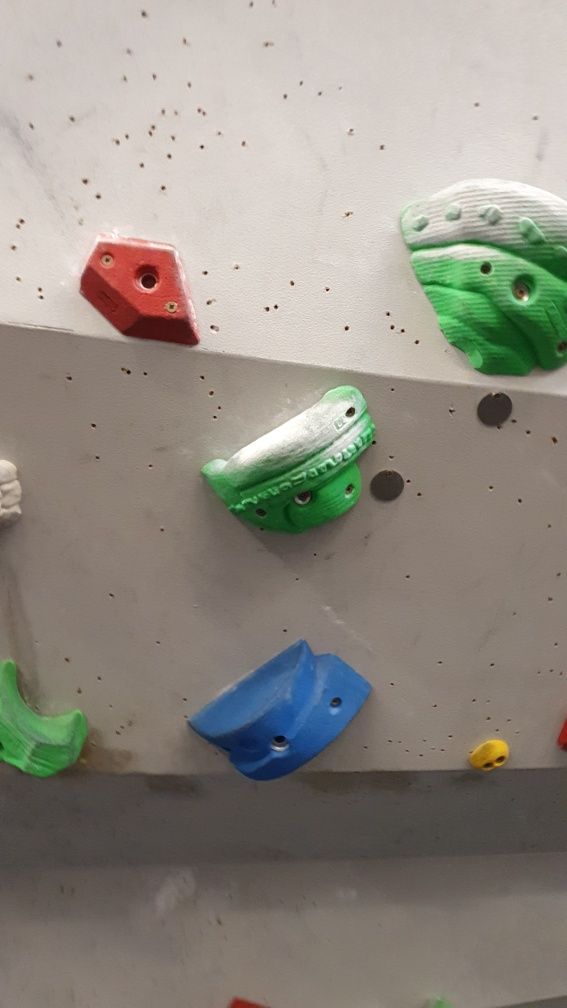Crimp: (75, 226, 205, 359)
Hand Start: (366, 461, 416, 515), (472, 387, 518, 432)
Jug: (399, 174, 567, 379), (194, 381, 378, 531), (1, 658, 100, 788)
Pinch: (183, 637, 377, 789)
